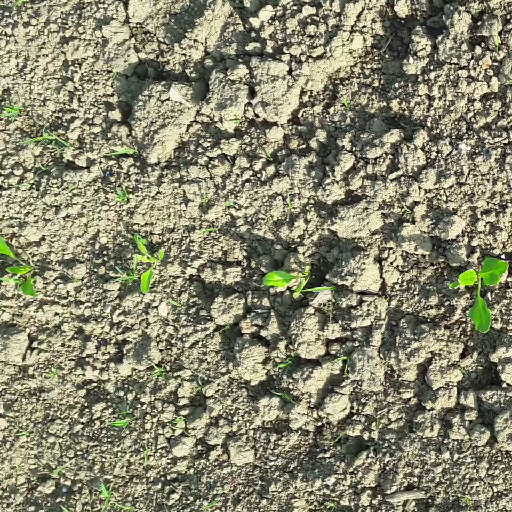sugarbeet: (444, 255, 512, 335), (1, 230, 39, 300), (129, 238, 165, 294), (261, 269, 316, 300)
weed: (101, 480, 134, 512), (116, 257, 143, 285), (270, 387, 301, 407), (99, 146, 142, 160), (38, 137, 76, 151), (301, 285, 343, 295), (1, 105, 20, 123), (278, 354, 297, 372), (17, 133, 55, 141), (151, 364, 167, 383), (110, 417, 132, 428), (49, 464, 63, 479), (339, 99, 354, 111), (43, 367, 56, 380), (114, 190, 128, 202), (14, 429, 32, 438), (341, 353, 351, 369), (140, 446, 147, 464), (200, 503, 213, 512), (201, 190, 208, 204), (172, 414, 185, 421), (207, 223, 217, 232), (464, 496, 468, 503)
